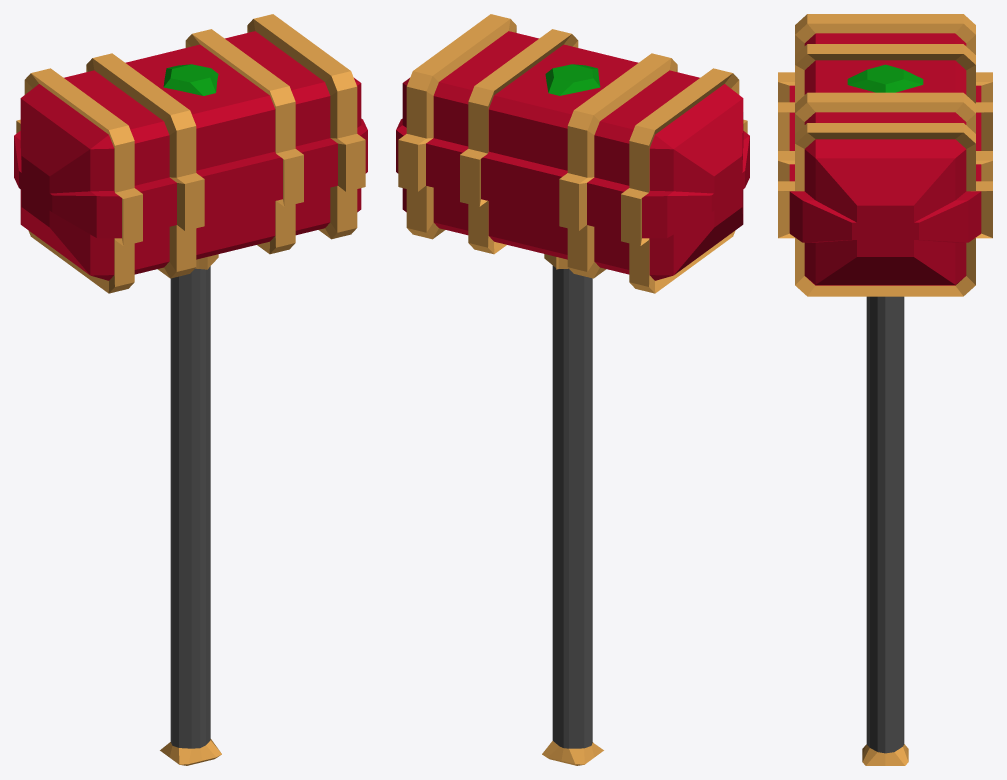
The model's file is TeamSigmarPaladins_Hammer red.fbx.
The picture shows the model from 3 angles, left to right: view 1: azimuth 30°, elevation 25°; view 2: azimuth 150°, elevation 25°; view 3: azimuth 270°, elevation 25°; orthographic projection.
Visible parts, largest first — view 1: Cube.019; view 2: Cube.019; view 3: Cube.019.
Boxes of the visible parts, x1,y1,x2,y2 form: Cube.019: [14, 14, 367, 765]; Cube.019: [396, 14, 749, 765]; Cube.019: [778, 14, 992, 765].
Bounding box in the file's own units: 164 × 345 × 98.12.
